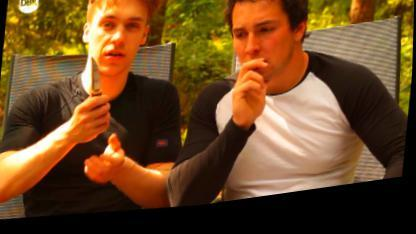knife: (80, 52, 116, 119)
